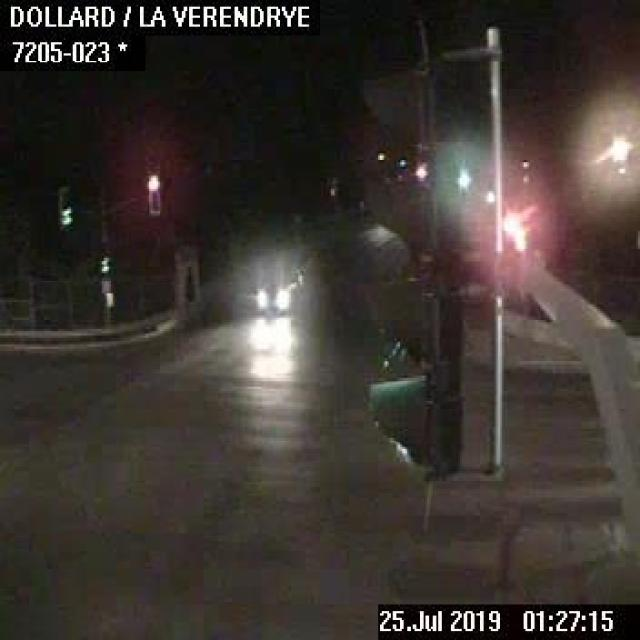vehicle: (251, 272, 302, 309)
